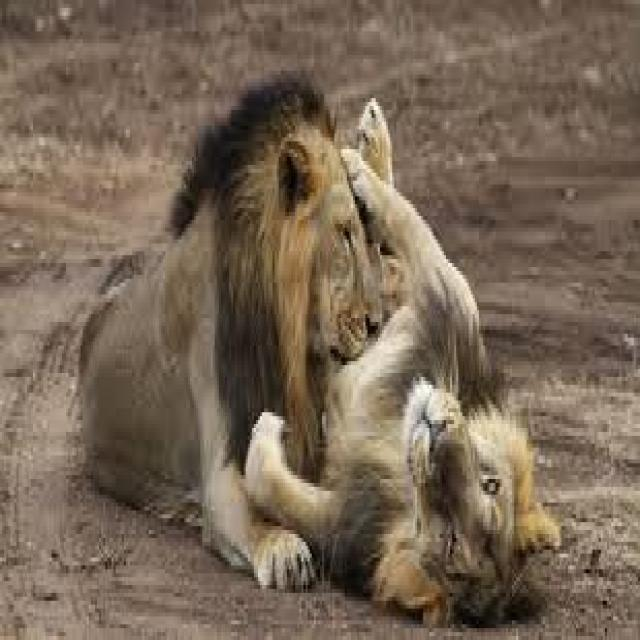Lion: (244, 98, 562, 628), (76, 67, 392, 593)
